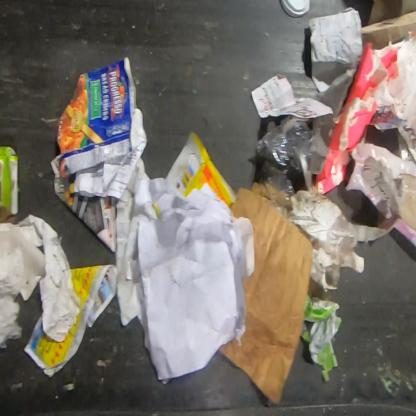cardboard: (218, 180, 314, 406), (314, 30, 416, 194), (56, 56, 138, 180), (343, 130, 415, 249), (164, 131, 237, 208), (360, 0, 415, 50), (0, 145, 22, 226)
rigid_plastic: (279, 0, 311, 19)
soft_plastic: (256, 115, 314, 202)
